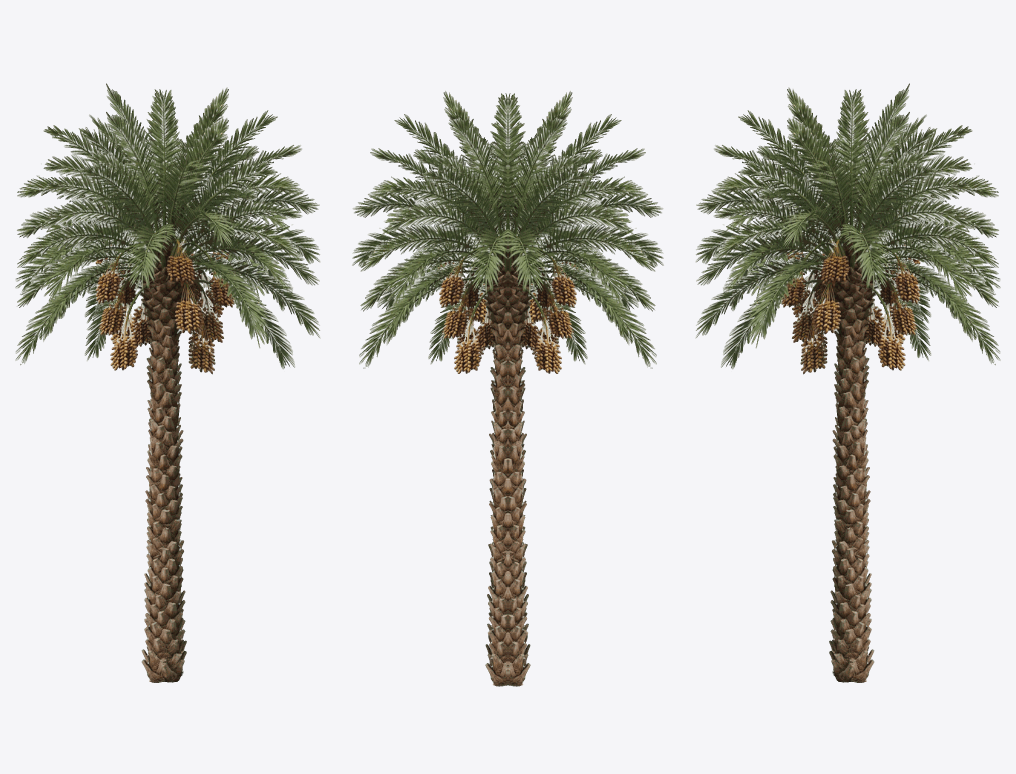
The model's file is palmier-dattier.glb.
The picture shows the model from 3 angles, left to right: view 1: azimuth 30°, elevation 25°; view 2: azimuth 150°, elevation 25°; view 3: azimuth 270°, elevation 25°; orthographic projection.
Parts seen in each view (by area): view 1: palmier-dattier; view 2: palmier-dattier; view 3: palmier-dattier.
Part boxes in pixels (<box>): palmier-dattier: <box>15,83,320,682</box>; palmier-dattier: <box>352,90,663,686</box>; palmier-dattier: <box>695,83,1000,682</box>.
Size of the model in its own units: 5.43 by 10.04 by 4.7.
Materials: 1 (1 with a texture image).
